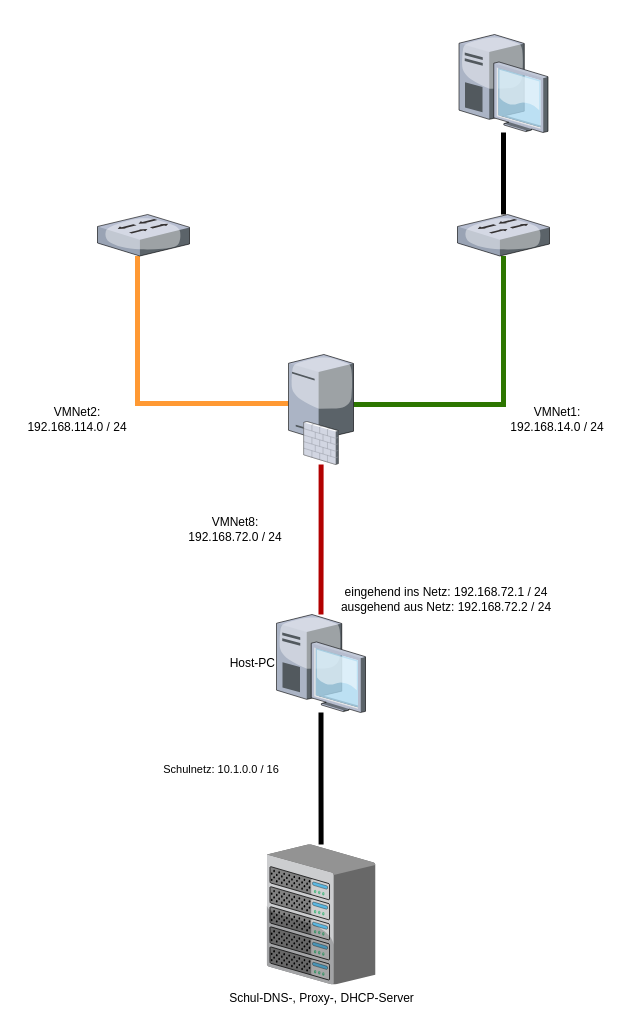
Some shapes in this 634 by 1022 pixel diagram are drawn without their labels. Each missing label, with the centre of its shape:
Admin-PC: (x=503, y=83)
Brandschutz - Server: (x=320, y=396)
